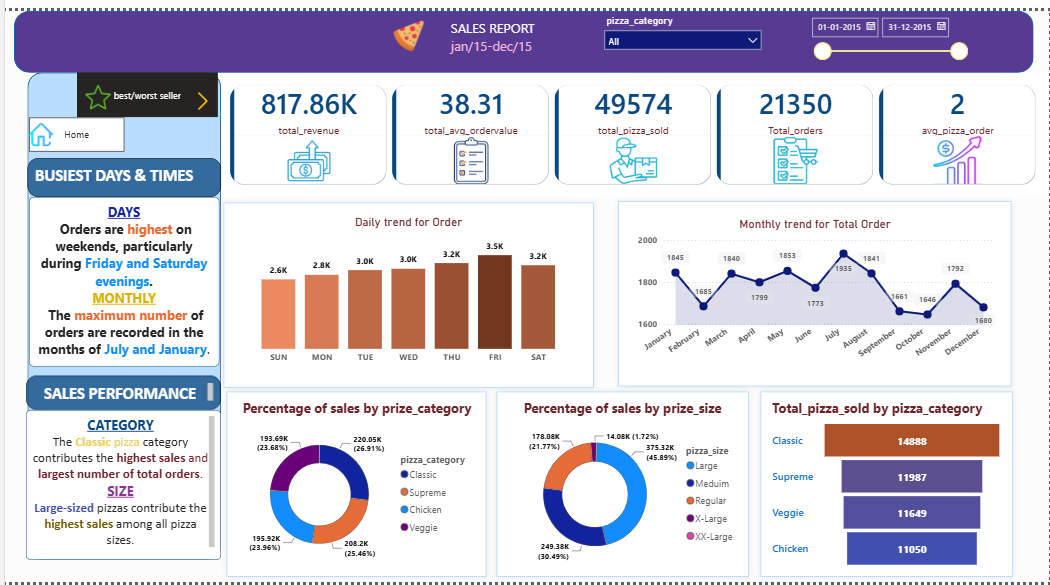

What the dashboard file says about the page in this screenshot:
{"tool":"powerbi","page":{"name":"Home ","canvas":[1500,820],"ordinal":0},"visuals":[{"type":"cardVisual","fields":{"Data":["pizza_sales.total_revenue","pizza_sales.total_avg_ordervalue","pizza_sales.total_pizza_sold","pizza_sales.Total_orders","pizza_sales.avg_pizza_order"]},"box":[306.1,88.5,1193.1,178.9],"z":0},{"type":"shape","box":[12.9,0,1464.2,88.5],"z":1000},{"type":"textbox","box":[349,0,663.5,88.3],"z":2000},{"type":"shape","box":[32.3,88.3,277.9,700.1],"z":3000},{"type":"image","box":[480.4,12.9,198.2,45.2],"z":4000},{"type":"shape","box":[331.7,267.1,381.3,275.7],"z":5000},{"type":"textbox","box":[32.3,219.7,277.9,62.5],"z":6000},{"type":"textbox","box":[34.5,277.9,273.6,230.5],"z":7000},{"type":"textbox","box":[30.2,523.5,280,49.5],"z":8000},{"type":"textbox","box":[30.2,573,280,215.4],"z":9000},{"type":"slicer","fields":{"Values":["pizza_sales.pizza_category"]},"box":[850.9,0,245.6,88.3],"z":10000},{"type":"slicer","fields":{"Values":["pizza_sales.order_date"]},"box":[1146,0,245.6,88.3],"z":11000},{"type":"shape","box":[710.9,269.3,381.3,273.6],"z":12000},{"type":"shape","box":[1096.5,267.1,381.3,273.6],"z":13000},{"type":"shape","box":[1092.2,538.5,381.3,273.6],"z":14000},{"type":"shape","box":[715.2,538.5,381.3,273.6],"z":15000},{"type":"shape","box":[333.9,538.5,381.3,273.6],"z":16000},{"type":"barChart","title":" Top 5 pizza by revenue","fields":{"Category":["pizza_sales.pizza_name"],"Y":["pizza_sales.total_revenue"]},"box":[349,284.3,346.8,245.6],"z":17000},{"type":"barChart","title":" Bottom 5 pizza by revenue","fields":{"Category":["pizza_sales.pizza_name"],"Y":["pizza_sales.total_revenue"]},"box":[351.1,549.3,346.8,245.6],"z":18000},{"type":"barChart","title":" Bottom 5 pizza by Quantity","fields":{"Category":["pizza_sales.pizza_name"],"Y":["pizza_sales.total_pizza_sold"]},"box":[732.4,549.3,346.8,245.6],"z":19000},{"type":"barChart","title":" Top 5 pizza by Quantity","fields":{"Category":["pizza_sales.pizza_name"],"Y":["pizza_sales.total_pizza_sold"]},"box":[728.1,282.2,346.8,245.6],"z":20000},{"type":"barChart","title":" Bottom 5 pizza by Total Orders","fields":{"Category":["pizza_sales.pizza_name"],"Y":["pizza_sales.Total_orders"]},"box":[1109.4,553.6,346.8,245.6],"z":21000},{"type":"barChart","title":" Top 5 pizza by Total Orders","fields":{"Category":["pizza_sales.pizza_name"],"Y":["pizza_sales.Total_orders"]},"box":[1111.5,277.9,346.8,245.6],"z":22000},{"type":"pageNavigator","box":[30.2,152.9,252,54],"z":23000},{"type":"pageNavigator","box":[157.3,88.3,148.6,64.6],"z":24000},{"type":"image","box":[237,116.3,88.3,23.7],"z":25000},{"type":"image","box":[172.3,88.3,32.3,79.7],"z":26000},{"type":"image","box":[34.5,159.4,45.2,40.9],"z":27000}]}

Visuals, with their boxes in screenshot pixels (x1, y1, x2, y2), scaled from the page's 1500x820 canvas onto the 1050x585 screenshot:
cardVisual - pizza_sales.total_revenue x pizza_sales.total_avg_ordervalue: [214, 63, 1049, 191]
shape: [9, 0, 1034, 63]
textbox: [244, 0, 709, 63]
shape: [23, 63, 217, 562]
image: [336, 9, 475, 41]
shape: [232, 191, 499, 387]
textbox: [23, 157, 217, 201]
textbox: [24, 198, 216, 363]
textbox: [21, 373, 217, 409]
textbox: [21, 409, 217, 562]
slicer - pizza_sales.pizza_category: [596, 0, 768, 63]
slicer - pizza_sales.order_date: [802, 0, 974, 63]
shape: [498, 192, 765, 387]
shape: [768, 191, 1034, 386]
shape: [765, 384, 1031, 579]
shape: [501, 384, 768, 579]
shape: [234, 384, 501, 579]
" Top 5 pizza by revenue" barChart: [244, 203, 487, 378]
" Bottom 5 pizza by revenue" barChart: [246, 392, 489, 567]
" Bottom 5 pizza by Quantity" barChart: [513, 392, 755, 567]
" Top 5 pizza by Quantity" barChart: [510, 201, 752, 377]
" Bottom 5 pizza by Total Orders" barChart: [777, 395, 1019, 570]
" Top 5 pizza by Total Orders" barChart: [778, 198, 1021, 373]
pageNavigator: [21, 109, 198, 148]
pageNavigator: [110, 63, 214, 109]
image: [166, 83, 228, 100]
image: [121, 63, 143, 120]
image: [24, 114, 56, 143]
